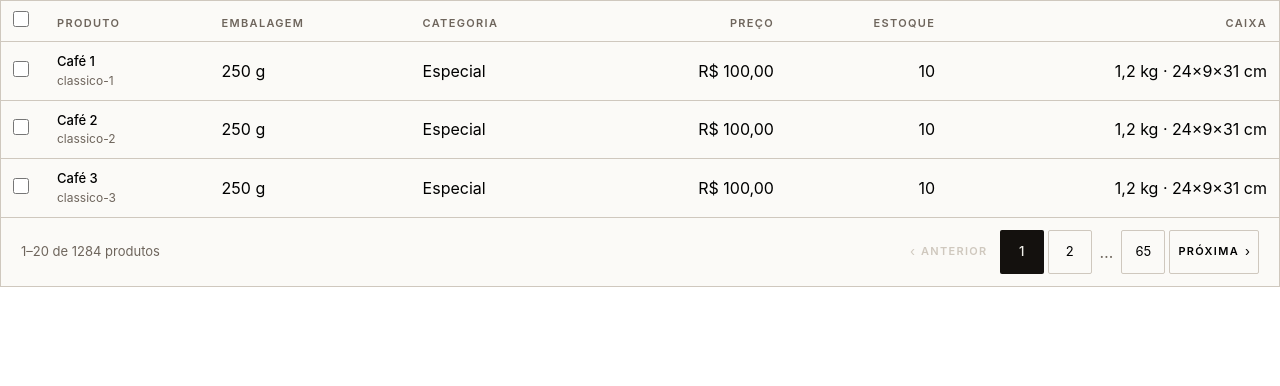
a seleção em massa — R25 › distingue os desta página dos do filtro, e diz o alcance da ação
Click the checkbox named "Marcar Café 1".
click(21, 69)  # box [13,61,29,77]
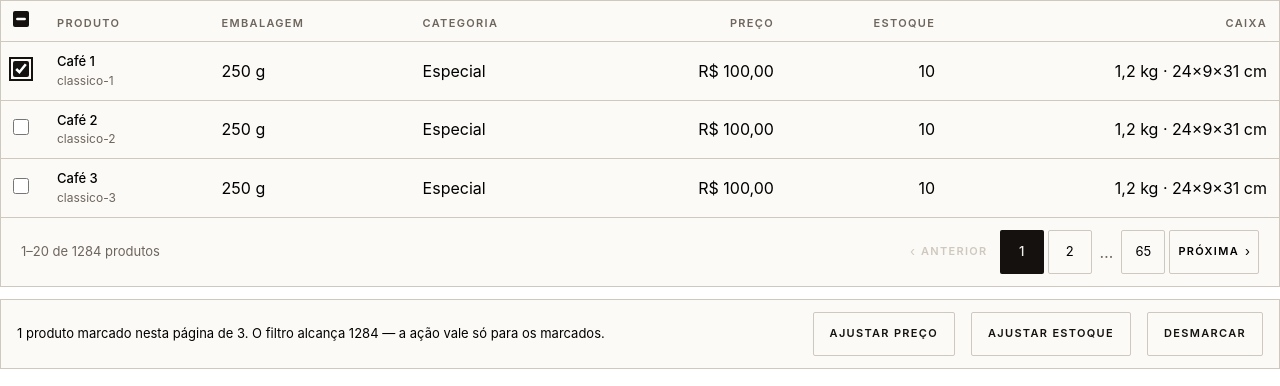
Result: the message shows "1 produto marcado nesta página de 3" at [17,325,605,341]
Result: the message shows "1284" at [17,325,605,341]
Result: the message shows "só para os marcados" at [17,325,605,341]
